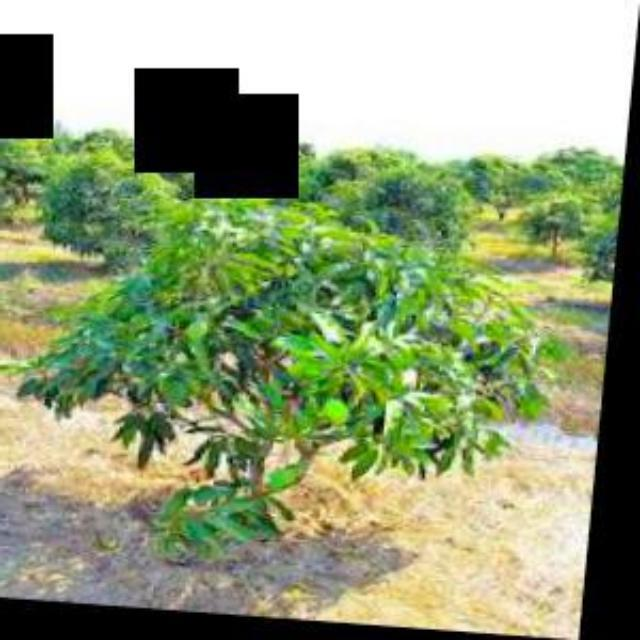tree: (11, 196, 563, 552)
